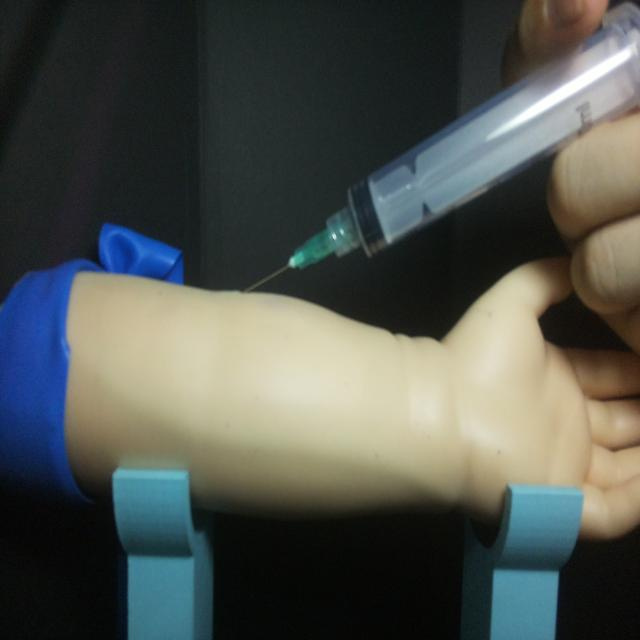17deg: (235, 6, 638, 296)
